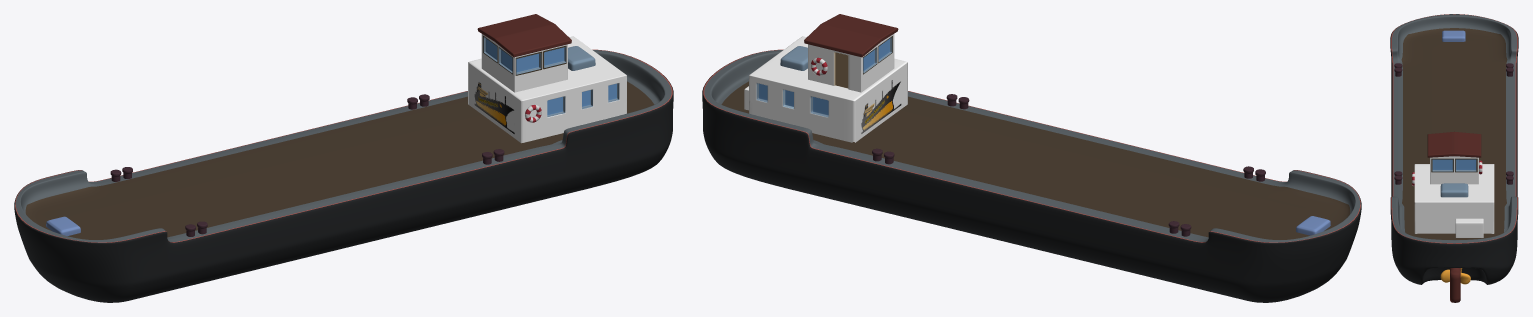
Rendered from bargeC3.fbx.
3 renders of one model, left to right at view 1: azimuth 30°, elevation 25°; view 2: azimuth 150°, elevation 25°; view 3: azimuth 270°, elevation 25°, orthographic. The views are drawn at different scales.
Visible parts, largest first — view 1: 19286_River_Barge_v1_NEW; view 2: 19286_River_Barge_v1_NEW; view 3: 19286_River_Barge_v1_NEW.
Part boxes in pixels (x1,y1,x2,y2): 19286_River_Barge_v1_NEW: (14,14,673,302); 19286_River_Barge_v1_NEW: (702,14,1361,302); 19286_River_Barge_v1_NEW: (1390,14,1518,302).
Bounding box in the file's own units: 10256 × 2273 × 2390.
